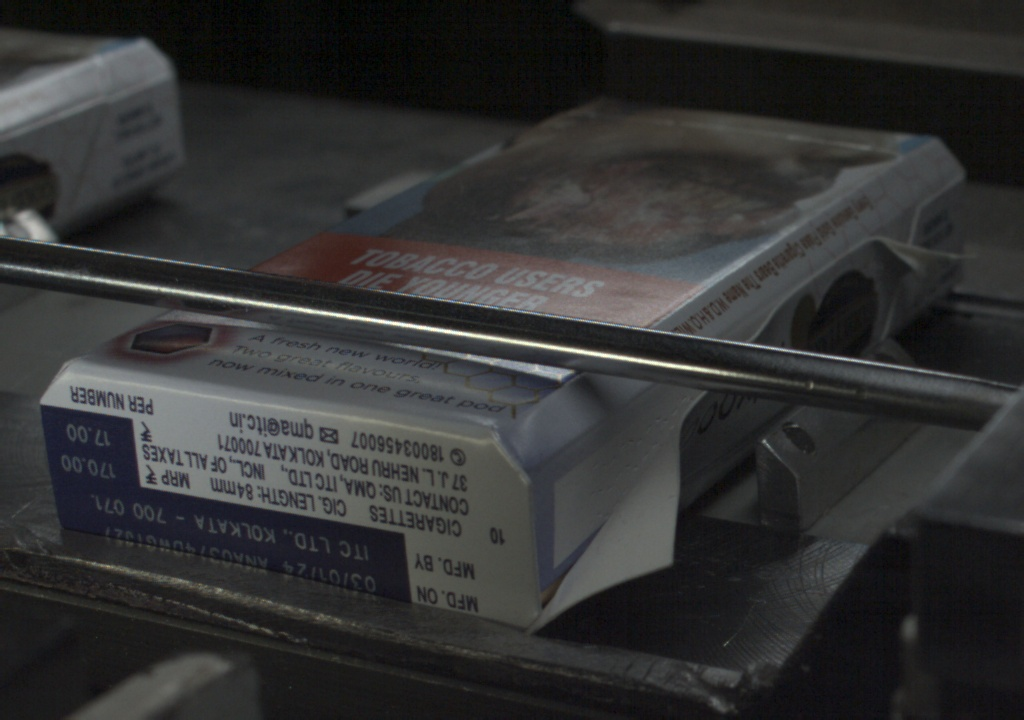g_bottom: (40, 372, 527, 634)
g_label: (54, 483, 410, 602)
g_lmiter: (799, 249, 859, 292)
g_miter: (915, 162, 967, 214)
ng_lmiter: (548, 392, 684, 605), (875, 231, 958, 281)
price: (51, 414, 131, 482)
